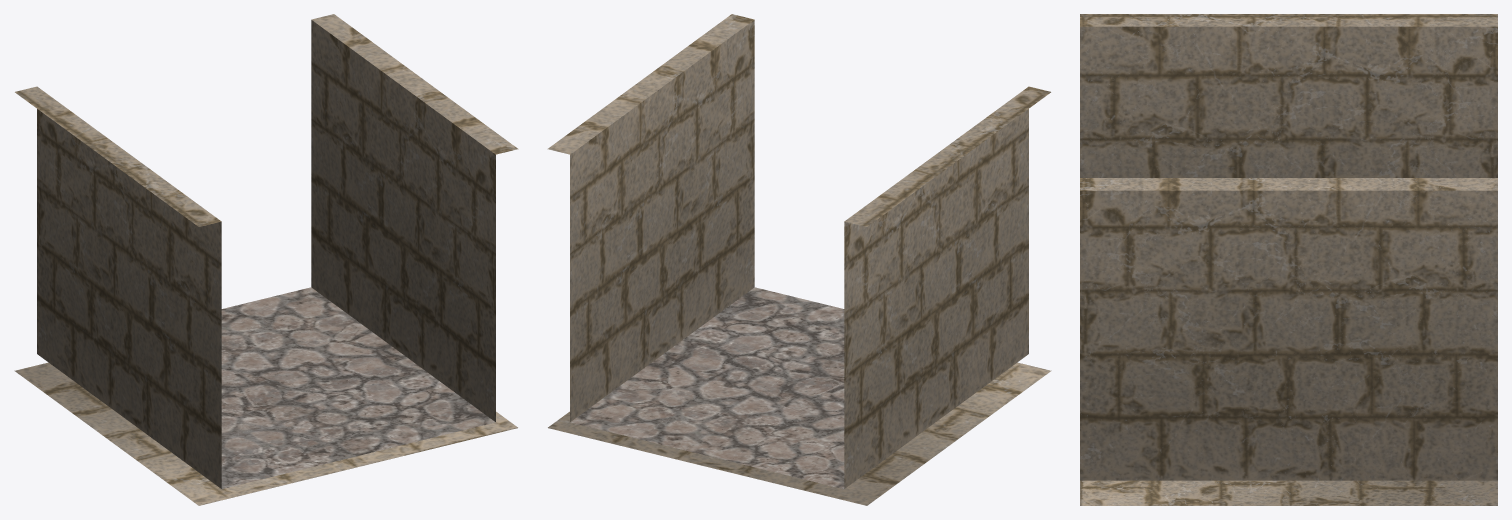
Rendered from ModuleCorridor.fbx.
3 views of the same model, side by side, from view 1: azimuth 30°, elevation 25°; view 2: azimuth 150°, elevation 25°; view 3: azimuth 270°, elevation 25° (orthographic). The views are drawn at different scales.
Parts seen in each view (by area): view 1: ModuleCorridor, ModuleCorridorFloorTile, ModuleCorridorFloorEdge; view 2: ModuleCorridor, ModuleCorridorFloorTile, ModuleCorridorFloorEdge; view 3: ModuleCorridor, ModuleCorridorFloorEdge.
Part boxes in pixels (x1,y1,x2,y2): ModuleCorridor: (15, 14, 518, 488); ModuleCorridorFloorTile: (221, 287, 495, 488); ModuleCorridorFloorEdge: (14, 362, 517, 505); ModuleCorridor: (547, 14, 1050, 488); ModuleCorridorFloorTile: (570, 287, 844, 488); ModuleCorridorFloorEdge: (548, 362, 1051, 505); ModuleCorridor: (1080, 14, 1497, 480); ModuleCorridorFloorEdge: (1080, 480, 1497, 505).
Size of the model in its own units: 300 by 250 by 300.
